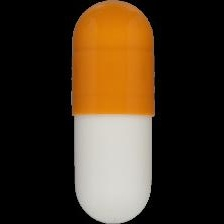61919-435: (0, 0, 224, 224)
